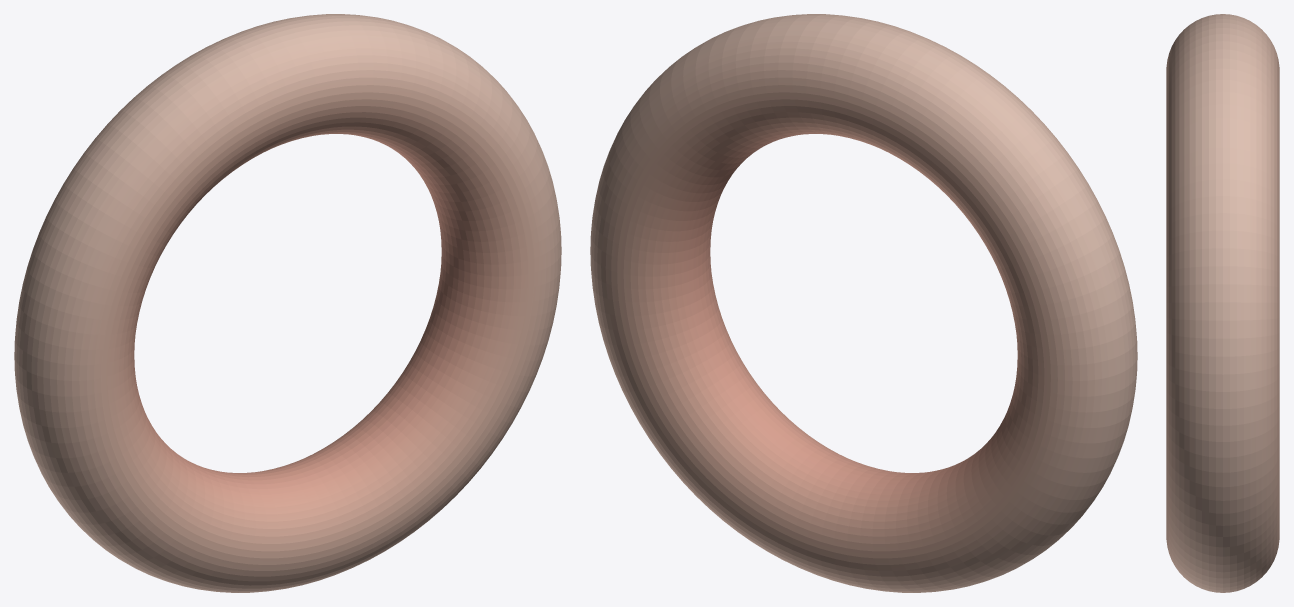
3 renders of one model, left to right at view 1: azimuth 30°, elevation 25°; view 2: azimuth 150°, elevation 25°; view 3: azimuth 270°, elevation 25°, orthographic. The views are drawn at different scales.
Visible parts, largest first — view 1: world; view 2: world; view 3: world.
Part boxes in pixels (bbox=[...]): world: bbox=[14, 14, 561, 592]; world: bbox=[590, 14, 1137, 592]; world: bbox=[1166, 14, 1279, 592].
Size of the model in its own units: 30.67 by 30.67 by 5.99.
